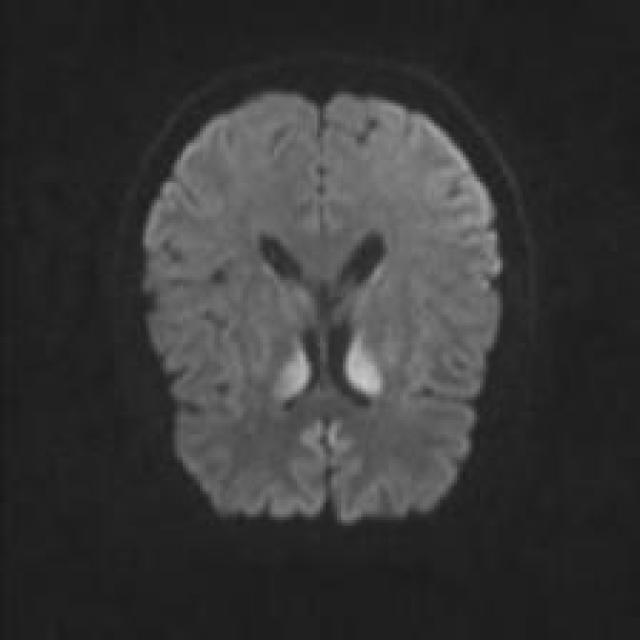no_tumor: (92, 52, 536, 559)
